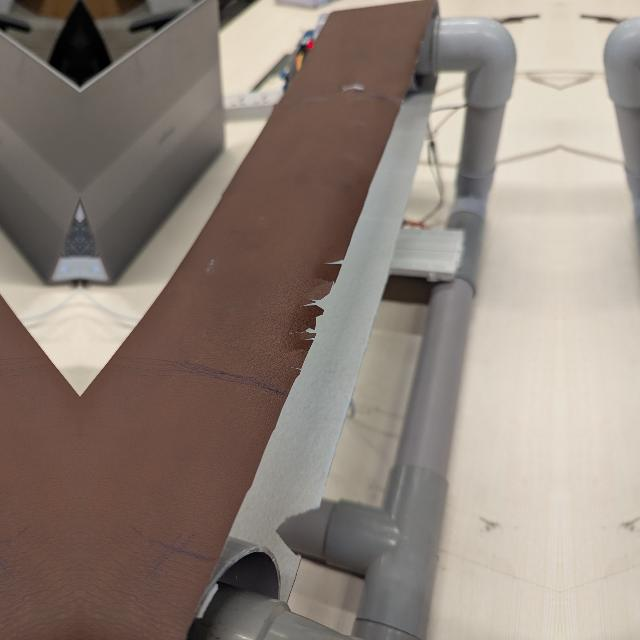edge_damage: (282, 243, 353, 383)
joint_damage: (340, 79, 371, 93)
